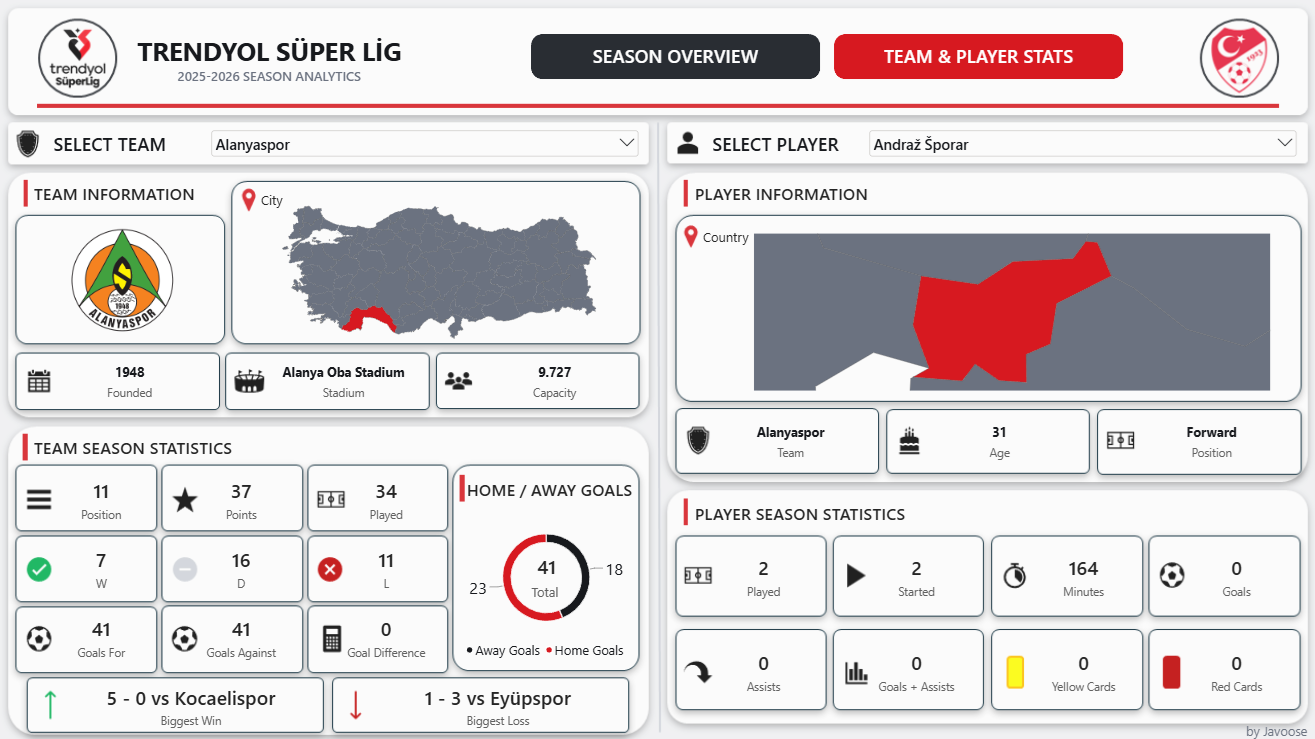

This screenshot's page, from the dashboard's own definition file:
{"tool":"powerbi","page":{"name":"TEAM & PLAYER STATS","canvas":[1920,1080],"ordinal":1},"visuals":[{"type":"pageNavigator","box":[774.1,49.2,864.5,66.5],"z":0},{"type":"textbox","box":[149,49.2,488.1,89.1],"z":1000},{"type":"textbox","box":[58.5,190.5,204.1,55.8],"z":2000},{"type":"textbox","box":[1020.6,190.5,220.4,55.8],"z":3000},{"type":"textbox","box":[49,265.3,254.5,43.5],"z":4000},{"type":"textbox","box":[1013.7,265.3,287.1,43.5],"z":5000},{"type":"textbox","box":[49,635.5,303.4,43.5],"z":6000},{"type":"textbox","box":[1013.7,732.1,323.9,43.5],"z":7000},{"type":"textbox","box":[681.7,698.1,254.5,43.5],"z":8000},{"type":"slicer","fields":{"Values":["Teams.TeamName"]},"box":[303.4,185.1,632.7,46.3],"z":9000},{"type":"slicer","fields":{"Values":["Players.PlayerName"]},"box":[1264.1,185.1,632.7,46.3],"z":10000},{"type":"tableEx","fields":{"Values":["Teams.LogoUrl"]},"box":[81.6,291.2,204.1,213.6],"z":11000},{"type":"textbox","box":[1818.2,1034.8,101.1,45.2],"z":12000},{"type":"card","title":"Founded","fields":{"Values":["Min(Teams.StadiumName)"]},"box":[362,498,279,117],"z":16000},{"type":"shapeMap","fields":{"Category":["Teams.City"]},"box":[310.2,276.2,660,244.9],"z":19000},{"type":"textbox","box":[381,279,64,47.6],"z":19001},{"type":"card","fields":{"Values":["Sum(TeamSeasonStats.LeaguePosition)"]},"box":[70.8,679,155.1,100.7],"z":19002},{"type":"card","title":"Founded","fields":{"Values":["Sum(Teams.FoundedYear)"]},"box":[49,498,279,117],"z":19003},{"type":"card","title":"Founded","fields":{"Values":["Sum(Teams.StadiumCapacity)"]},"box":[669.5,498,279,117],"z":19004},{"type":"card","fields":{"Values":["Ölçüler.Pts"]},"box":[274.9,679,155.1,100.7],"z":19005},{"type":"card","fields":{"Values":["Ölçüler.MP"]},"box":[485.8,679,155.1,100.7],"z":19006},{"type":"card","fields":{"Values":["Ölçüler.W"]},"box":[70.8,779.7,155.1,100.7],"z":19007},{"type":"card","fields":{"Values":["Ölçüler.GF"]},"box":[70.8,880.4,155.1,100.7],"z":19008},{"type":"card","fields":{"Values":["Ölçüler.D"]},"box":[274.9,779.7,155.1,100.7],"z":19009},{"type":"card","fields":{"Values":["Ölçüler.L"]},"box":[485.8,779.7,155.1,100.7],"z":19010},{"type":"card","fields":{"Values":["Ölçüler.GA"]},"box":[274.9,880.4,155.1,100.7],"z":19011},{"type":"card","fields":{"Values":["Ölçüler.GD"]},"box":[485.8,880.4,155.1,100.7],"z":19012},{"type":"shapeMap","fields":{"Category":["Players.Nation"]},"box":[1084.3,327.5,785.1,258.5],"z":19013},{"type":"card","title":"Founded","fields":{"Values":["Min(Teams.TeamName)"]},"box":[1013.7,585.1,279,117],"z":19014},{"type":"card","title":"Founded","fields":{"Values":["Sum(Players.Age)"]},"box":[1318.6,585.1,279,117],"z":19015},{"type":"card","title":"Founded","fields":{"Values":["Min(PlayerSeasonStats.Position)"]},"box":[1628.8,585.1,279,117],"z":19016},{"type":"card","fields":{"Values":["Sum(PlayerSeasonStats.MatchesPlayed)"]},"box":[1021,780,185.4,122],"z":19017},{"type":"card","fields":{"Values":["Sum(PlayerSeasonStats.MatchesStarted)"]},"box":[1245,780,185.4,122],"z":19018},{"type":"card","fields":{"Values":["Sum(PlayerSeasonStats.Minutes)"]},"box":[1487.5,780,185.4,122],"z":19019},{"type":"card","fields":{"Values":["Sum(PlayerSeasonStats.Goals)"]},"box":[1711.5,780,185.4,122],"z":19020},{"type":"card","fields":{"Values":["Sum(PlayerSeasonStats.Assists)"]},"box":[1021,919.1,185.4,122],"z":19021},{"type":"card","fields":{"Values":["Ölçüler.G/A"]},"box":[1245,919.1,185.4,122],"z":19022},{"type":"card","fields":{"Values":["Sum(PlayerSeasonStats.YellowCards)"]},"box":[1487.5,919.1,185.4,122],"z":19023},{"type":"card","fields":{"Values":["Sum(PlayerSeasonStats.RedCards)"]},"box":[1711.5,919.1,185.4,122],"z":19024},{"type":"donutChart","fields":{"Y":["Ölçüler.Away Goals","Ölçüler.Home Goals"]},"box":[658,741.4,278,239.4],"z":19025},{"type":"card","fields":{"Values":["Ölçüler.Total Goals"]},"box":[726,789.3,142.1,103.5],"z":19026},{"type":"card","fields":{"Values":["Ölçüler.Biggest Win"]},"box":[71.1,980.9,414,98.9],"z":19027},{"type":"card","fields":{"Values":["Ölçüler.Biggest Loss"]},"box":[519,980.9,414,98.9],"z":19028},{"type":"textbox","box":[1025.6,332.1,88,47.9],"z":19029}]}

Visuals, with their boxes in screenshot pixels (x1, y1, x2, y2), scaled from the page's 1920x1080 canvas onto the 1315x739 screenshot:
pageNavigator: bbox(530, 34, 1122, 79)
textbox: bbox(102, 34, 436, 95)
textbox: bbox(40, 130, 180, 169)
textbox: bbox(699, 130, 850, 169)
textbox: bbox(34, 182, 208, 211)
textbox: bbox(694, 182, 891, 211)
textbox: bbox(34, 435, 241, 465)
textbox: bbox(694, 501, 916, 531)
textbox: bbox(467, 478, 641, 507)
slicer - Teams.TeamName: bbox(208, 127, 641, 158)
slicer - Players.PlayerName: bbox(866, 127, 1299, 158)
tableEx - Teams.LogoUrl: bbox(56, 199, 196, 345)
textbox: bbox(1245, 708, 1314, 738)
"Founded" card: bbox(248, 341, 439, 421)
shapeMap - Teams.City: bbox(212, 189, 664, 357)
textbox: bbox(261, 191, 305, 223)
card - Sum(TeamSeasonStats.LeaguePosition): bbox(48, 465, 155, 534)
"Founded" card: bbox(34, 341, 225, 421)
"Founded" card: bbox(459, 341, 650, 421)
card - Ölçüler.Pts: bbox(188, 465, 295, 534)
card - Ölçüler.MP: bbox(333, 465, 439, 534)
card - Ölçüler.W: bbox(48, 534, 155, 602)
card - Ölçüler.GF: bbox(48, 602, 155, 671)
card - Ölçüler.D: bbox(188, 534, 295, 602)
card - Ölçüler.L: bbox(333, 534, 439, 602)
card - Ölçüler.GA: bbox(188, 602, 295, 671)
card - Ölçüler.GD: bbox(333, 602, 439, 671)
shapeMap - Players.Nation: bbox(743, 224, 1280, 401)
"Founded" card: bbox(694, 400, 885, 480)
"Founded" card: bbox(903, 400, 1094, 480)
"Founded" card: bbox(1116, 400, 1307, 480)
card - Sum(PlayerSeasonStats.MatchesPlayed): bbox(699, 534, 826, 617)
card - Sum(PlayerSeasonStats.MatchesStarted): bbox(853, 534, 980, 617)
card - Sum(PlayerSeasonStats.Minutes): bbox(1019, 534, 1146, 617)
card - Sum(PlayerSeasonStats.Goals): bbox(1172, 534, 1299, 617)
card - Sum(PlayerSeasonStats.Assists): bbox(699, 629, 826, 712)
card - Ölçüler.G/A: bbox(853, 629, 980, 712)
card - Sum(PlayerSeasonStats.YellowCards): bbox(1019, 629, 1146, 712)
card - Sum(PlayerSeasonStats.RedCards): bbox(1172, 629, 1299, 712)
donutChart - Ölçüler.Away Goals x Ölçüler.Home Goals: bbox(451, 507, 641, 671)
card - Ölçüler.Total Goals: bbox(497, 540, 595, 611)
card - Ölçüler.Biggest Win: bbox(49, 671, 332, 738)
card - Ölçüler.Biggest Loss: bbox(355, 671, 639, 738)
textbox: bbox(702, 227, 763, 260)
